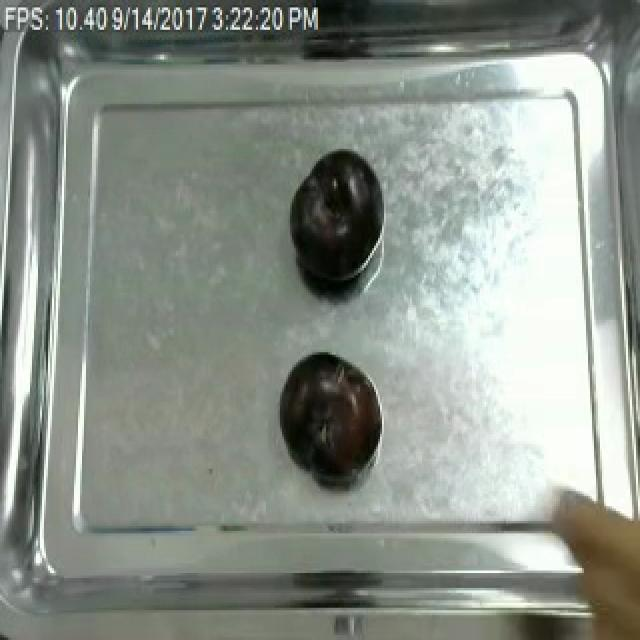Fruit: (284, 144, 382, 293), (276, 347, 382, 479)
